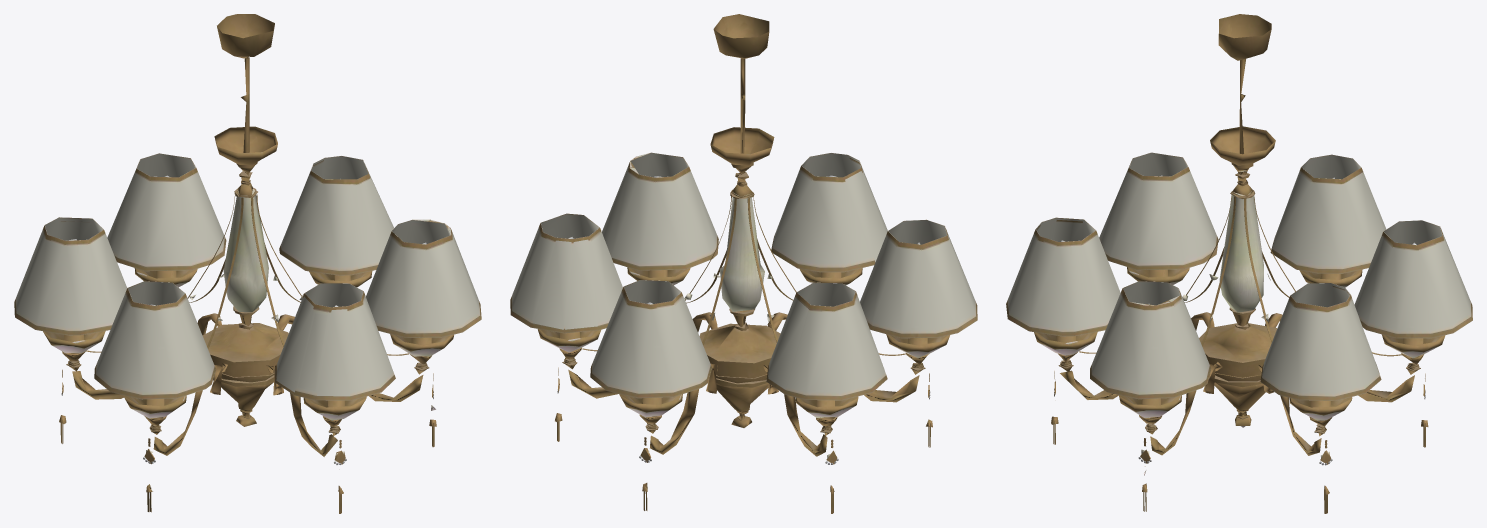
File: chandelier.glb
The picture shows the model from 3 angles, left to right: view 1: azimuth 30°, elevation 25°; view 2: azimuth 150°, elevation 25°; view 3: azimuth 270°, elevation 25°; orthographic projection.
Parts seen in each view (by area): view 1: Chandelier_01; view 2: Chandelier_01; view 3: Chandelier_01.
Boxes of the visible parts, left/top/right/bottom form: Chandelier_01: left=14, top=14, right=481, bottom=513; Chandelier_01: left=510, top=14, right=977, bottom=513; Chandelier_01: left=1006, top=14, right=1472, bottom=513.
Size of the model in its own units: 0.7408 by 0.7983 by 0.8084.
Materials: 2 (1 with a texture image).
